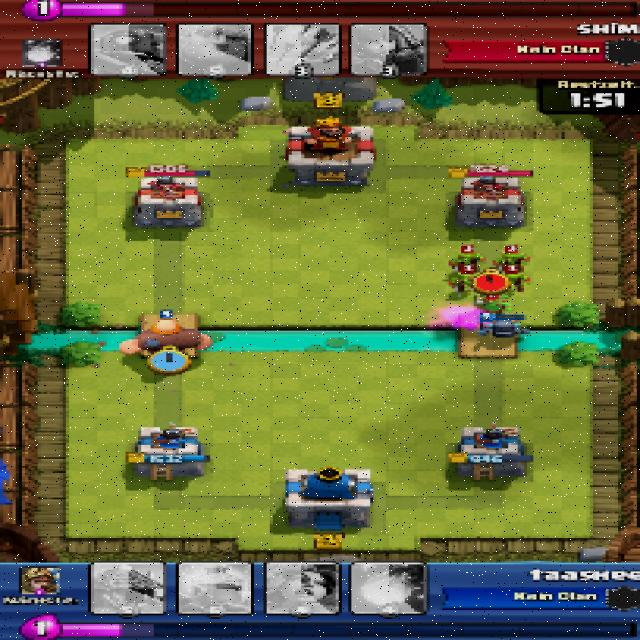Enemy-Goblin: (498, 272, 530, 293), (447, 252, 482, 270), (451, 274, 482, 291), (497, 251, 528, 268)
Enemy-MiniPEKKA: (477, 316, 528, 336)
Enemy-SpearGoblin: (473, 297, 511, 314)
Player-Giant: (120, 321, 212, 360)
